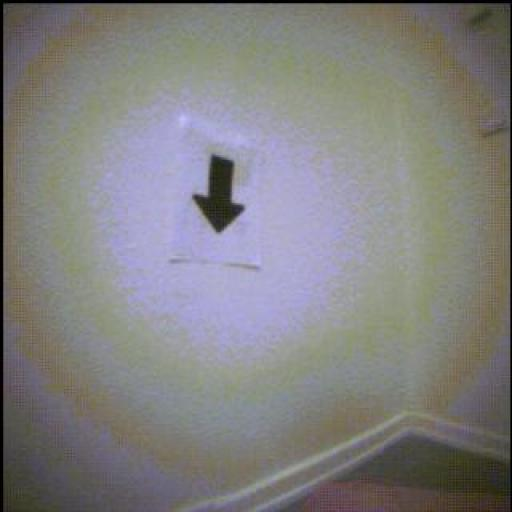Arrow: (195, 156, 246, 233)
